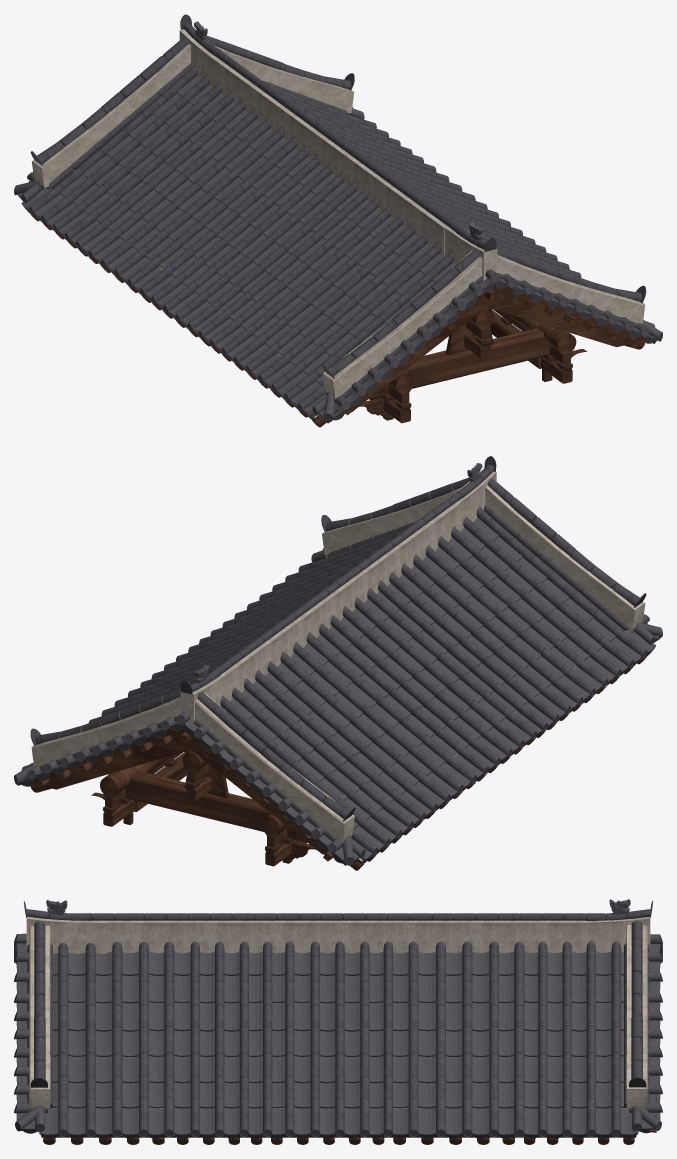
Rendered from SM_R_Naesanmun.fbx.
3 renders of one model, top to bottom at view 1: azimuth 30°, elevation 25°; view 2: azimuth 150°, elevation 25°; view 3: azimuth 270°, elevation 25°, orthographic. The views are drawn at different scales.
Visible parts, largest first — view 1: SM_R_Naesanmun; view 2: SM_R_Naesanmun; view 3: SM_R_Naesanmun.
Boxes of the visible parts, left/top/right/bottom form: SM_R_Naesanmun: left=14, top=14, right=662, bottom=427; SM_R_Naesanmun: left=14, top=456, right=662, bottom=870; SM_R_Naesanmun: left=14, top=899, right=662, bottom=1144.
Size of the model in its own units: 793 by 1257 by 393.
Materials: 5 (5 with a texture image).
